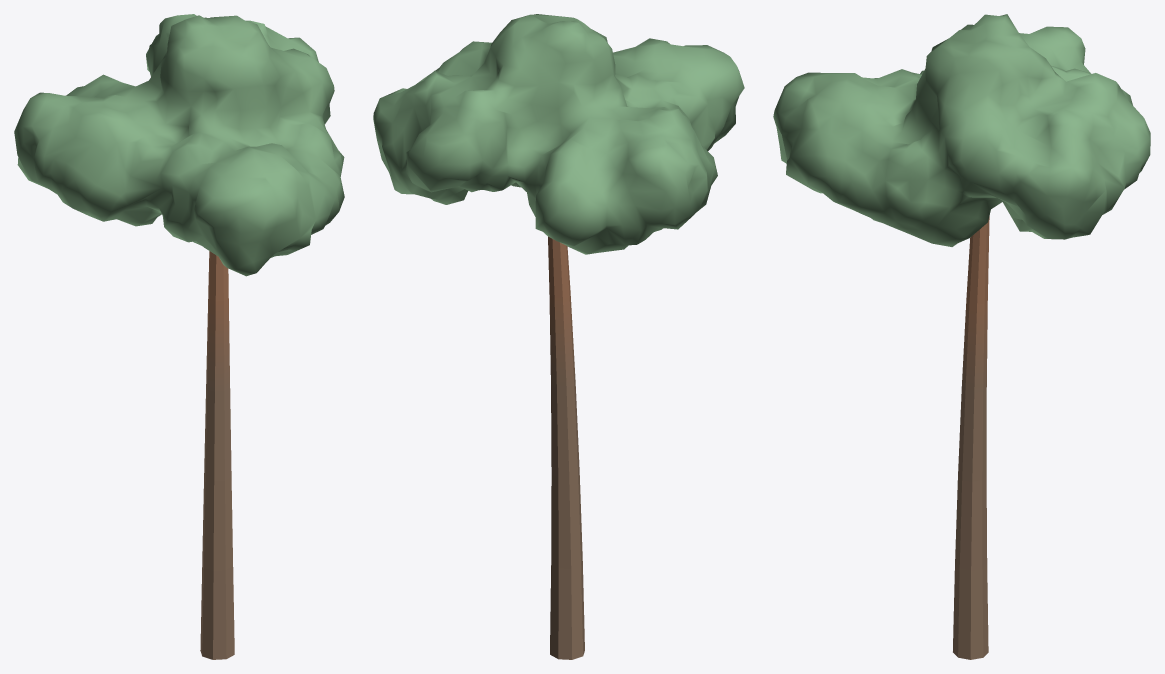
The model's file is tree_pine.glb.
3 renders of one model, left to right at view 1: azimuth 30°, elevation 25°; view 2: azimuth 150°, elevation 25°; view 3: azimuth 270°, elevation 25°, orthographic. The views are drawn at different scales.
Parts seen in each view (by area): view 1: tree_pine; view 2: tree_pine; view 3: tree_pine.
Part boxes in pixels (x1,y1,x2,y2): tree_pine: (14, 14, 344, 659); tree_pine: (373, 14, 744, 659); tree_pine: (773, 14, 1150, 659).
Size of the model in its own units: 5.88 by 11.66 by 6.33.
